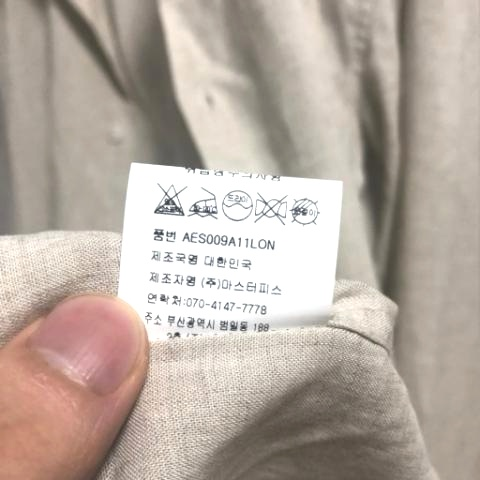DN_bleach: (155, 183, 190, 217)
DN_wring: (255, 191, 291, 226)
dry_clean: (223, 187, 253, 223)
iron_low: (190, 185, 221, 219)
line_dry_in_shade: (292, 197, 324, 229)
